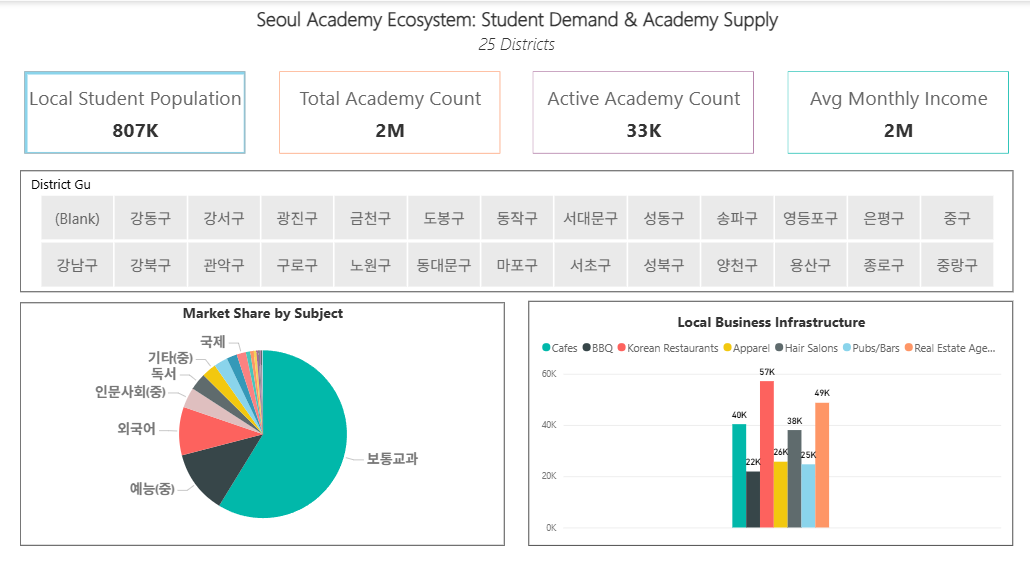

The page's visual inventory and layout, read from the dashboard file:
{"tool":"powerbi","page":{"name":"District Deep-Dive","canvas":[1280,720],"ordinal":0},"visuals":[{"type":"slicer","fields":{"Values":["Dim District.District Gu"]},"box":[26,210.1,1231,150.6],"z":0},{"type":"cardVisual","fields":{"Data":["Sum(Education Statistics (by School).Total_Students)"]},"box":[25.2,82.2,284,112],"z":1000},{"type":"cardVisual","fields":{"Data":["Sum(Seoul Academy Information.Student Capacity)"]},"box":[341.2,82.2,284,112],"z":2000},{"type":"cardVisual","fields":{"Data":["Sum(Business Distribution (by Industry/Dong).Academic_Hagwon_Biz_Count_2024)"]},"box":[657.2,82.2,284,112],"z":3000},{"type":"cardVisual","fields":{"Data":["Avg(National Pension - Avg Monthly Income.Avg Monthly Income)"]},"box":[973.2,82.2,284,112],"z":4000},{"type":"pieChart","title":"Market Share by Subject","fields":{"Category":["Seoul Academy Information.Course Category"],"Y":["Sum(Seoul Academy Information.Student Capacity)"]},"box":[26,373.8,600.6,301.3],"z":5000},{"type":"clusteredColumnChart","title":"Local Business Infrastructure","fields":{"Y":["Sum(Business Distribution (by Industry/Dong).Cafe_Biz_Count_2024)","Sum(Business Distribution (by Industry/Dong).BBQ_Biz_Count_2024)","Sum(Business Distribution (by Industry/Dong).Korean_Restaurant_Biz_Count_2024)","Sum(Business Distribution (by Industry/Dong).Apparel_Biz_Count_2024)","Sum(Business Distribution (by Industry/Dong).Hair_Salon_Biz_Count_2024)","Sum(Business Distribution (by Industry/Dong).Pubs_Bars_Biz_Count_2024)","Sum(Business Distribution (by Industry/Dong).Real_Estate_Agency_Biz_Count_2024)"]},"box":[656.4,371.9,600.6,303.1],"z":6000},{"type":"textbox","box":[282.7,0,719.7,72.5],"z":7000}]}

Visuals, with their boxes in screenshot pixels (x1, y1, x2, y2), scaled from the page's 1280x720 canvas onto the 1030x582 screenshot:
slicer - Dim District.District Gu: bbox(21, 170, 1011, 292)
cardVisual - Sum(Education Statistics (by School).Total_Students): bbox(20, 66, 249, 157)
cardVisual - Sum(Seoul Academy Information.Student Capacity): bbox(275, 66, 503, 157)
cardVisual - Sum(Business Distribution (by Industry/Dong).Academic_Hagwon_Biz_Count_2024): bbox(529, 66, 757, 157)
cardVisual - Avg(National Pension - Avg Monthly Income.Avg Monthly Income): bbox(783, 66, 1012, 157)
"Market Share by Subject" pieChart: bbox(21, 302, 504, 546)
"Local Business Infrastructure" clusteredColumnChart: bbox(528, 301, 1011, 546)
textbox: bbox(227, 0, 807, 59)
